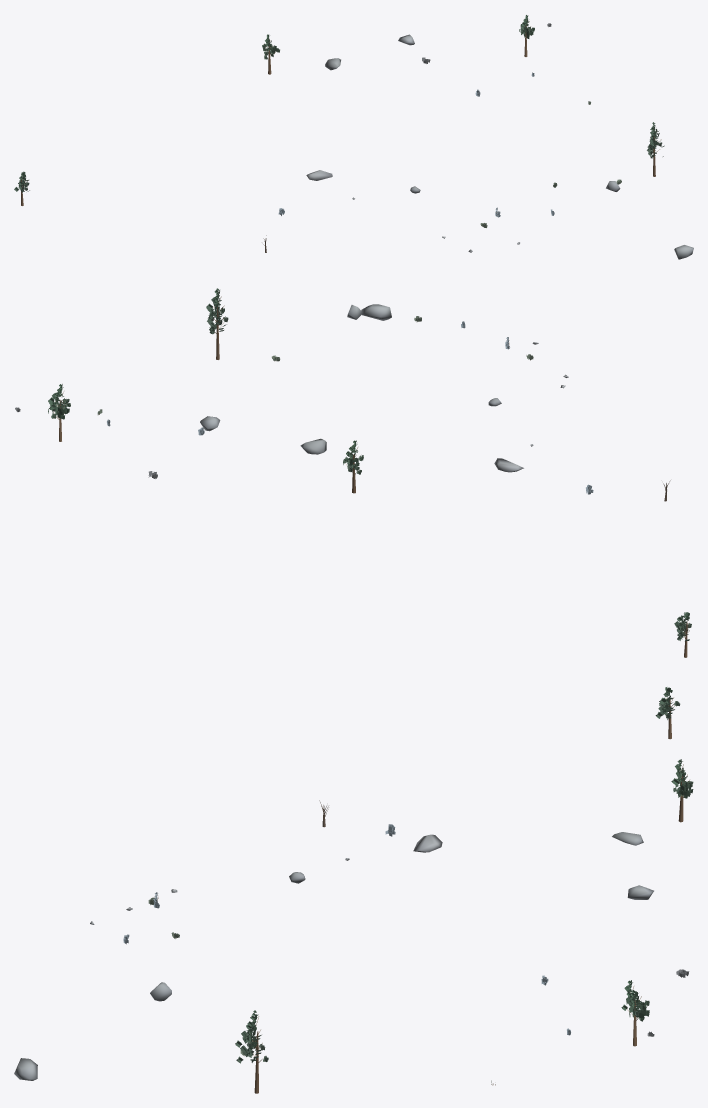
Rendered from frost_land_scatter_c16_12.glb.
The picture shows the model from 3 angles, top to bottom: view 1: azimuth 30°, elevation 25°; view 2: azimuth 150°, elevation 25°; view 3: azimuth 270°, elevation 25°; orthographic projection. The views are drawn at different scales.
Visible parts, largest first — view 1: frost_land_scatter_c16_12; view 2: frost_land_scatter_c16_12; view 3: frost_land_scatter_c16_12.
Part boxes in pixels (box(x1,y1,x2,y2)): frost_land_scatter_c16_12: box(14, 15, 693, 259); frost_land_scatter_c16_12: box(15, 288, 691, 657); frost_land_scatter_c16_12: box(14, 687, 693, 1093).
Bounding box in the file's own units: 145 × 29.9 × 107.
